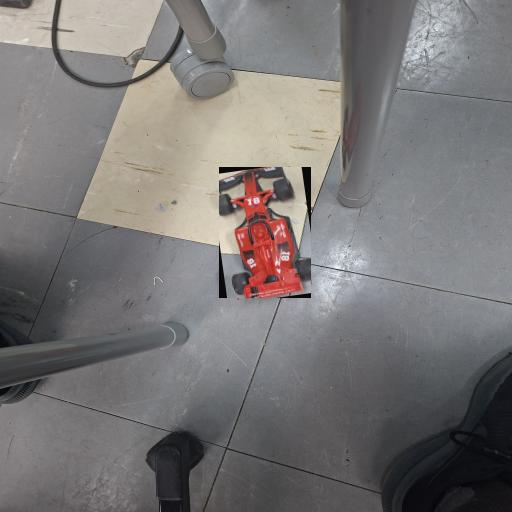carro: (219, 168, 309, 297)
